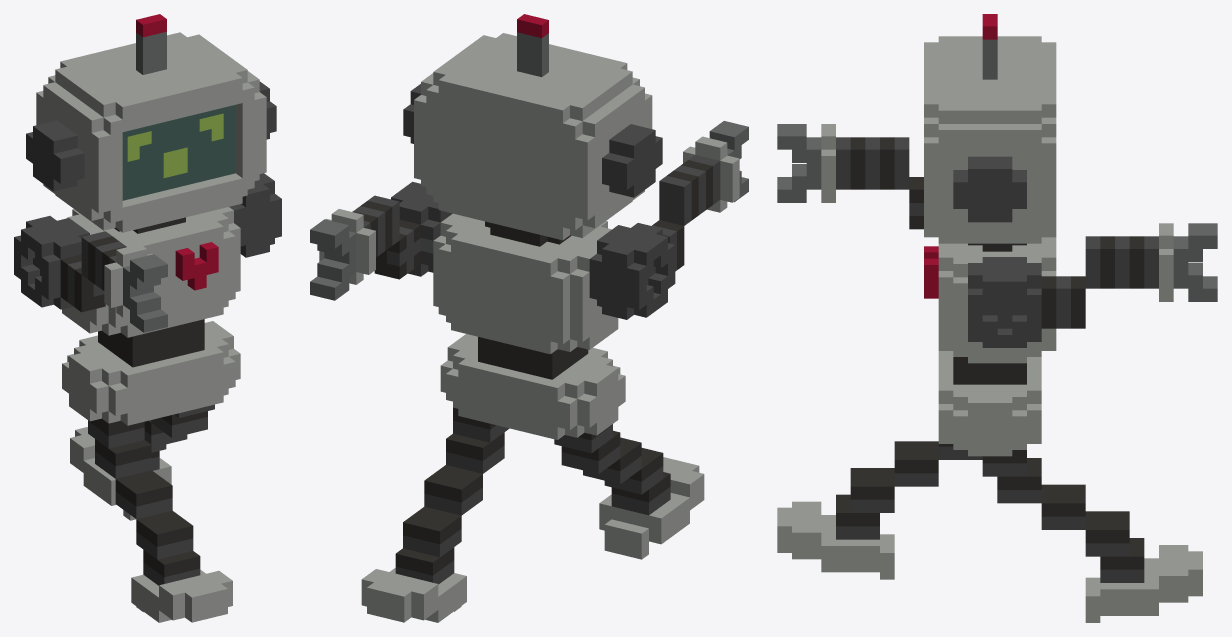
File: player_main_jump-start_1.fbx
The picture shows the model from 3 angles, left to right: view 1: azimuth 30°, elevation 25°; view 2: azimuth 150°, elevation 25°; view 3: azimuth 270°, elevation 25°; orthographic projection. The views are drawn at different scales.
Parts seen in each view (by area): view 1: model_0; view 2: model_0; view 3: model_0.
Boxes of the visible parts, x1,y1,x2,y2 form: model_0: [14, 14, 281, 622]; model_0: [310, 14, 748, 622]; model_0: [777, 14, 1217, 622].
Bounding box in the file's own units: 200 × 300 × 430.
